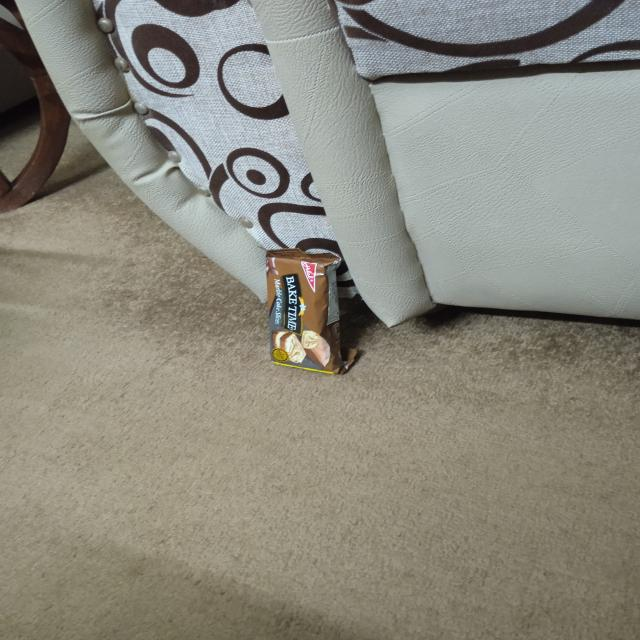Plastic: (260, 241, 368, 374)
